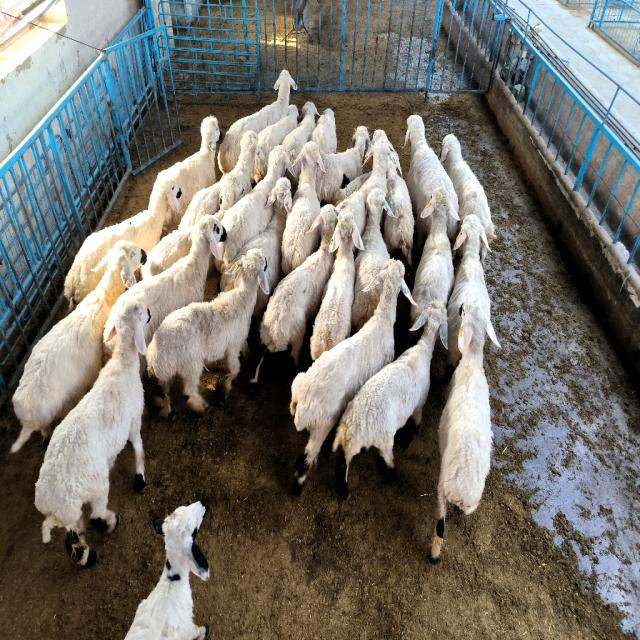sheep: (35, 298, 150, 566), (290, 258, 412, 494), (11, 242, 145, 452), (334, 300, 448, 498), (146, 250, 269, 416), (431, 301, 500, 559), (104, 215, 225, 358), (64, 178, 180, 309), (261, 205, 338, 364), (125, 502, 209, 639), (218, 145, 292, 271), (179, 132, 264, 230), (219, 70, 298, 173), (311, 212, 364, 361), (152, 117, 221, 225), (405, 115, 459, 244), (411, 187, 461, 322), (351, 188, 396, 330), (448, 215, 490, 366), (238, 177, 291, 292), (441, 135, 496, 241), (336, 130, 392, 234), (281, 142, 324, 274), (315, 127, 370, 202), (252, 105, 299, 182), (384, 145, 414, 264), (141, 228, 194, 278), (281, 102, 319, 162), (215, 172, 251, 219), (310, 108, 338, 158), (252, 290, 269, 321), (446, 215, 458, 240), (220, 272, 234, 291)
